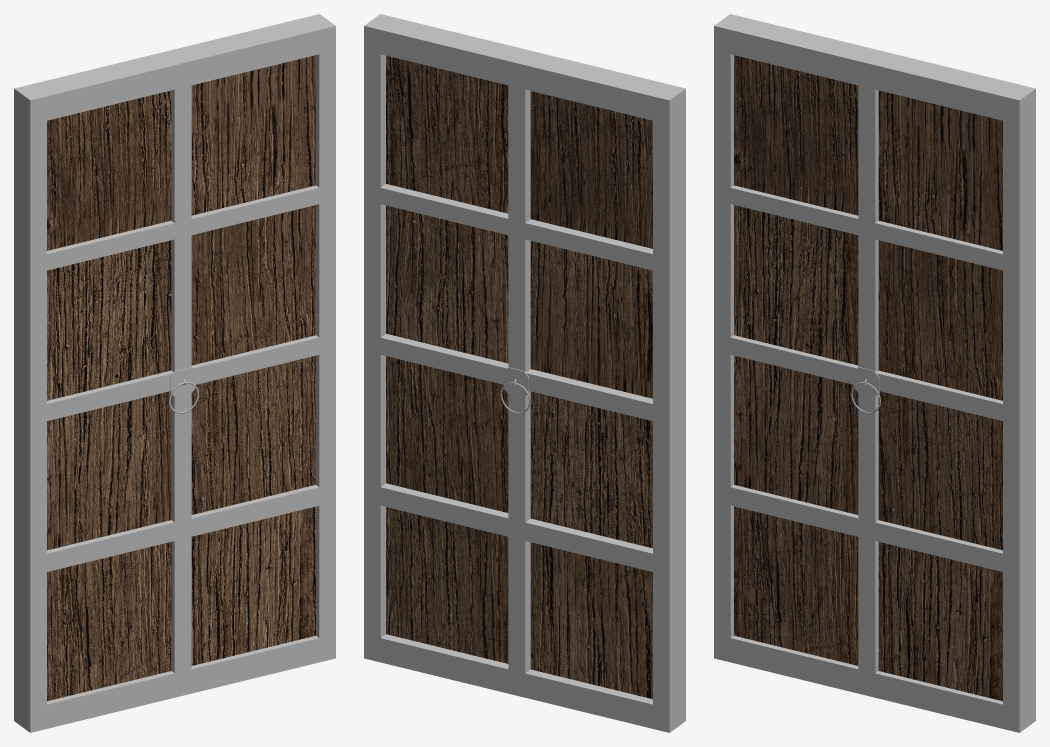
Rendered from Door3.fbx.
3 renders of one model, left to right at view 1: azimuth 30°, elevation 25°; view 2: azimuth 150°, elevation 25°; view 3: azimuth 330°, elevation 25°, orthographic.
Parts seen in each view (by area): view 1: Castle-Hall-DoorRoom; view 2: Castle-Hall-DoorRoom; view 3: Castle-Hall-DoorRoom.
Part boxes in pixels (x1,y1,x2,y2): Castle-Hall-DoorRoom: (14,14,335,732); Castle-Hall-DoorRoom: (364,14,685,732); Castle-Hall-DoorRoom: (714,14,1035,732).
Bounding box in the file's own units: 37.64 × 74.46 × 4.41.
